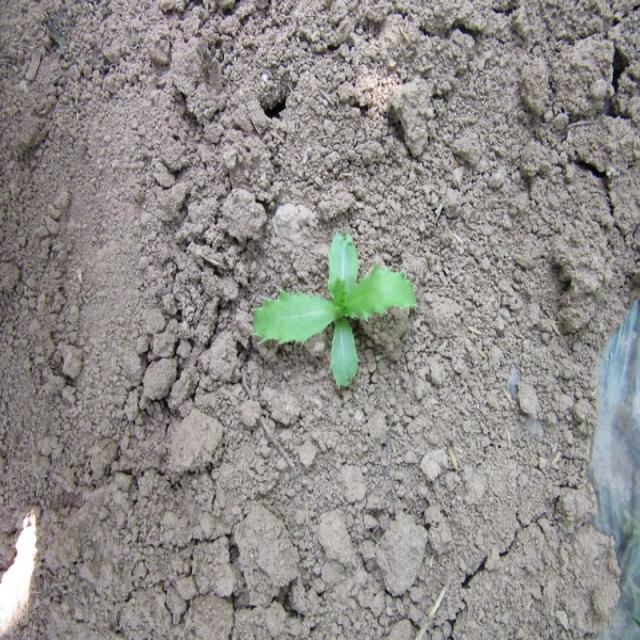field_thistle: (230, 222, 443, 400)
